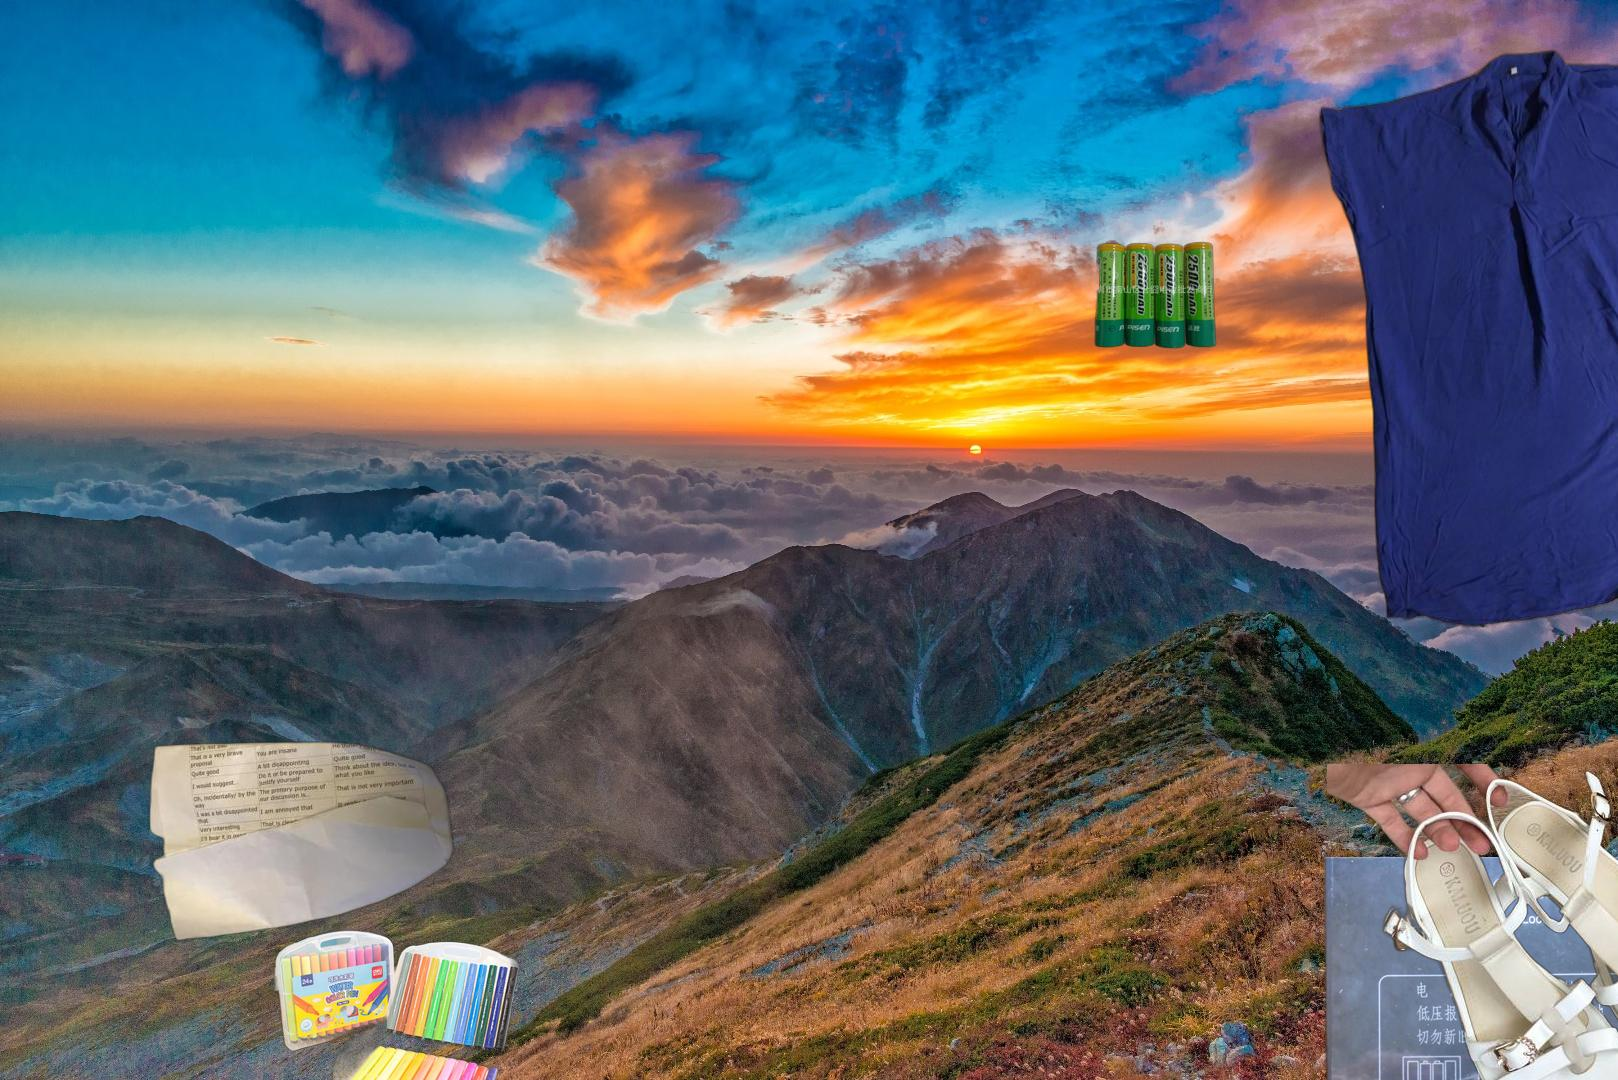battery: (1318, 857, 1618, 1080), (1092, 239, 1219, 351)
clothes: (1317, 45, 1618, 633), (1326, 764, 1618, 1080)
paper: (145, 739, 459, 943)
penholder: (273, 927, 524, 1080)
plastic-bag: (1463, 322, 1573, 406)
